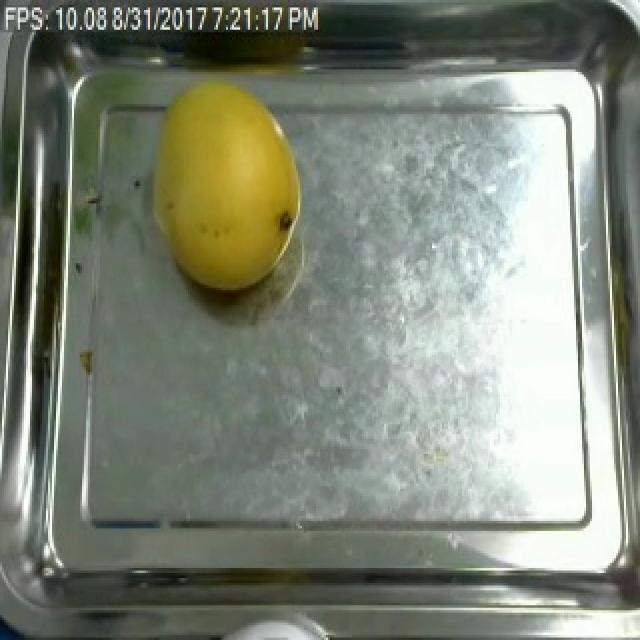fruit: (138, 72, 312, 308)
